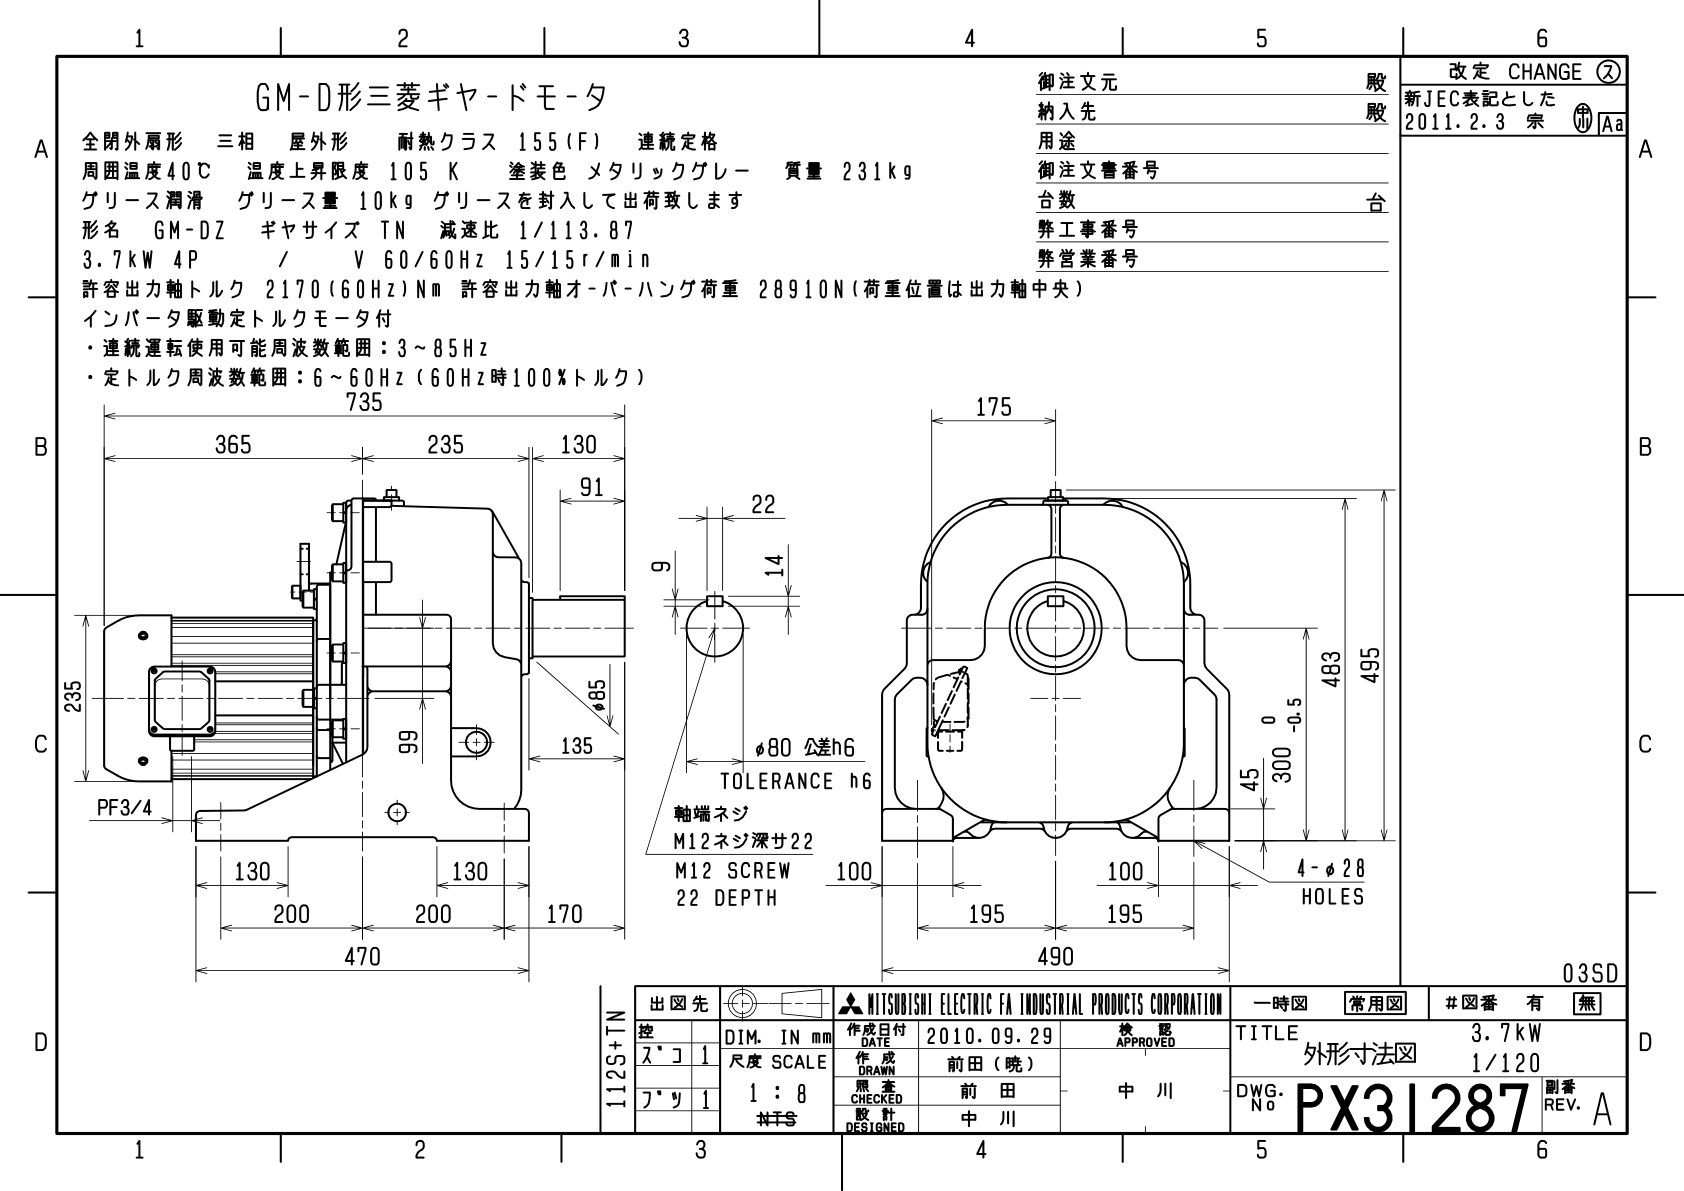GM_D_インバータ屋外_三相_脚: (54, 385, 1399, 983)
